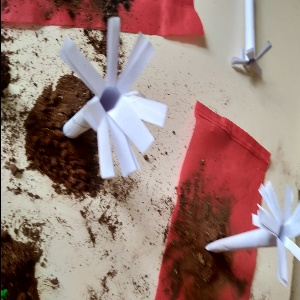weed: (60, 14, 166, 182), (198, 176, 300, 281), (229, 3, 297, 102)
